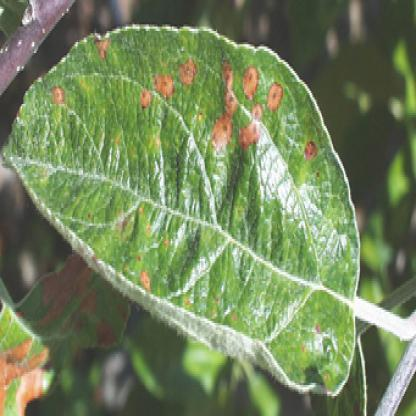Apple rust leaf: (7, 22, 365, 403)
